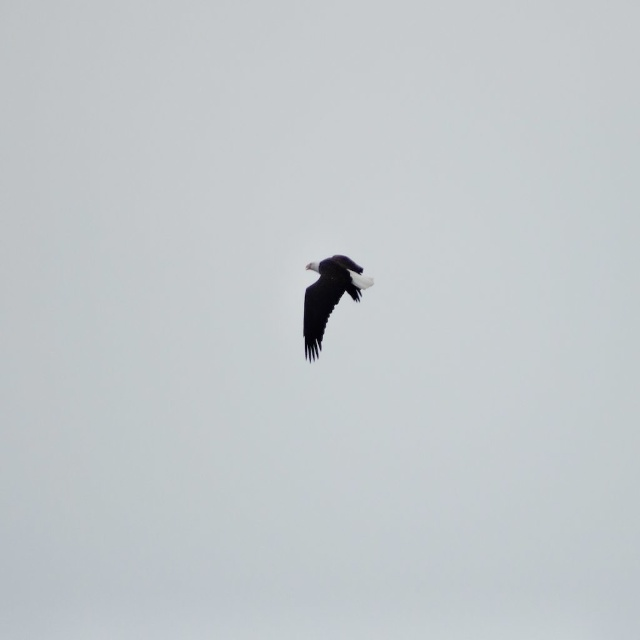Eagle: (301, 252, 376, 359)
